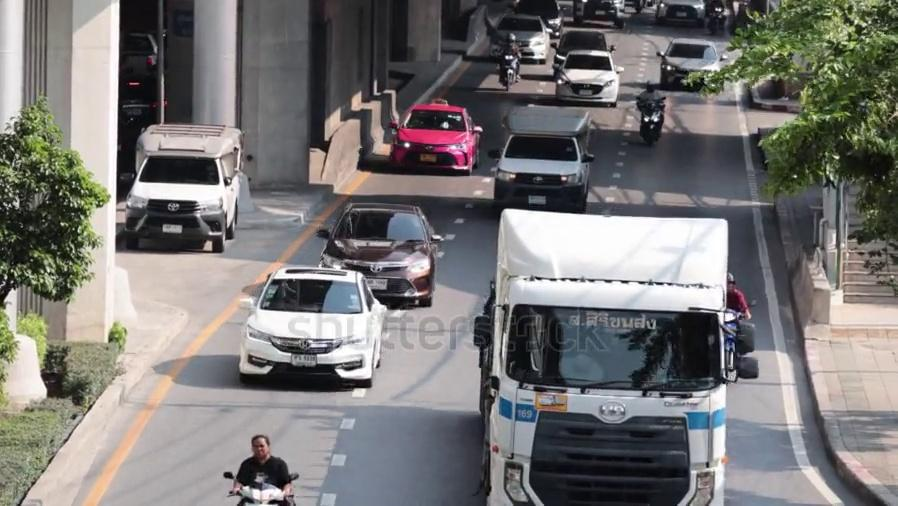rider: (230, 434, 293, 505), (726, 270, 756, 381), (633, 74, 671, 148), (494, 30, 528, 93), (706, 1, 729, 40)
with_helmate: (726, 274, 739, 293), (641, 79, 657, 91), (506, 34, 516, 46)
without_helmate: (249, 435, 271, 459)
